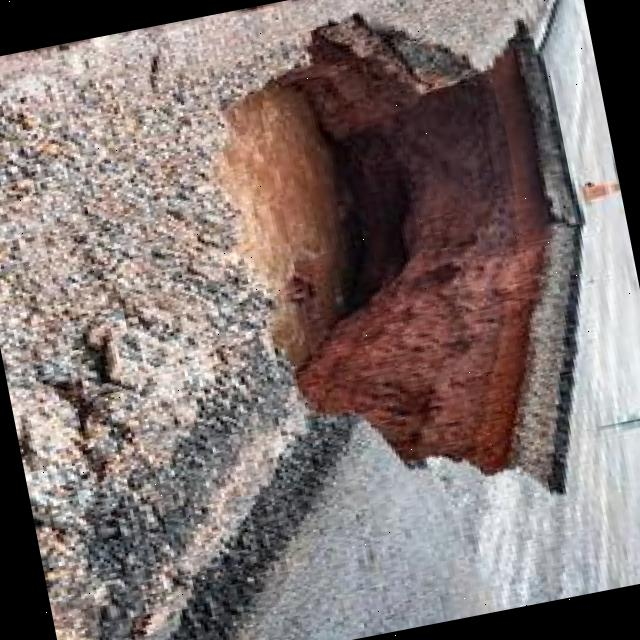road collapse: (99, 0, 640, 602)
